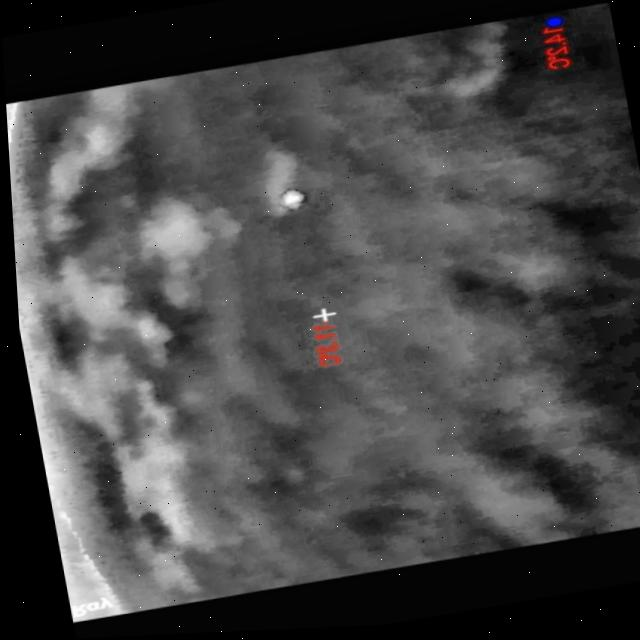drone: (272, 189, 303, 215)
